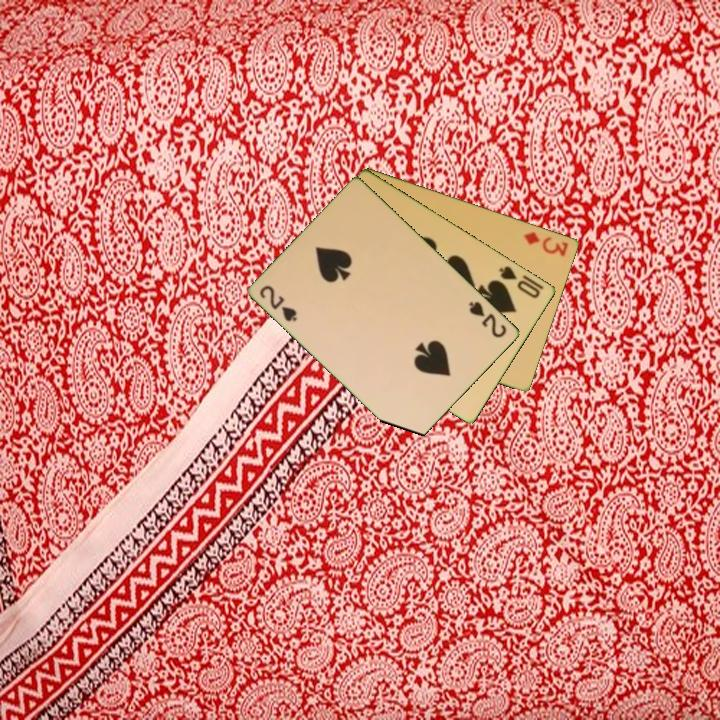10s: (496, 262, 544, 301)
2s: (465, 298, 510, 341), (256, 282, 301, 325)
3d: (520, 228, 571, 259)
